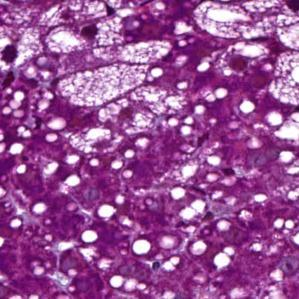ballooning: (52, 60, 149, 109), (191, 3, 294, 43)
